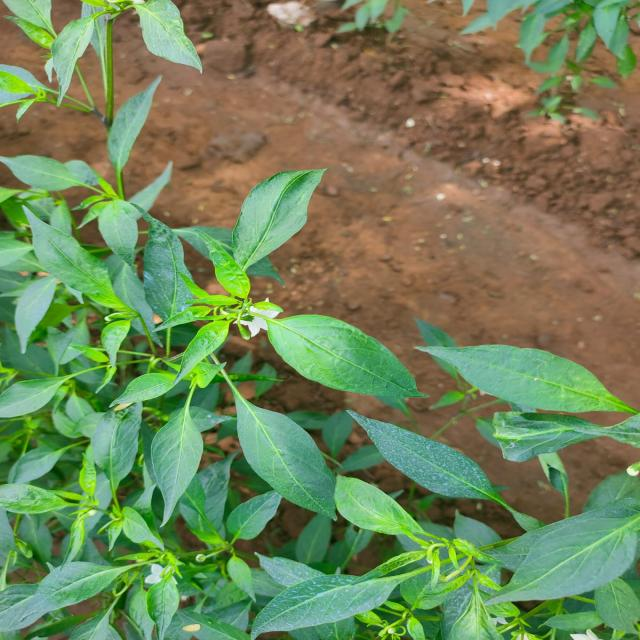Mosaic_virus: (204, 209, 640, 640), (1, 0, 228, 640)
